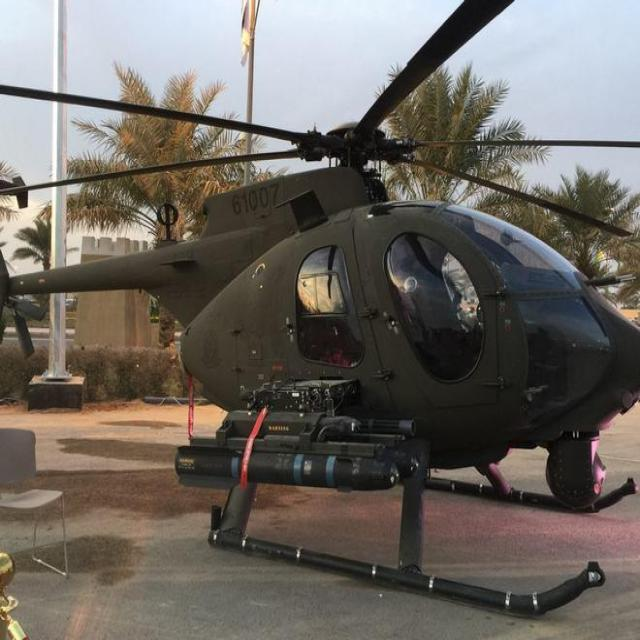MIL_HELO: (6, 0, 639, 614)
